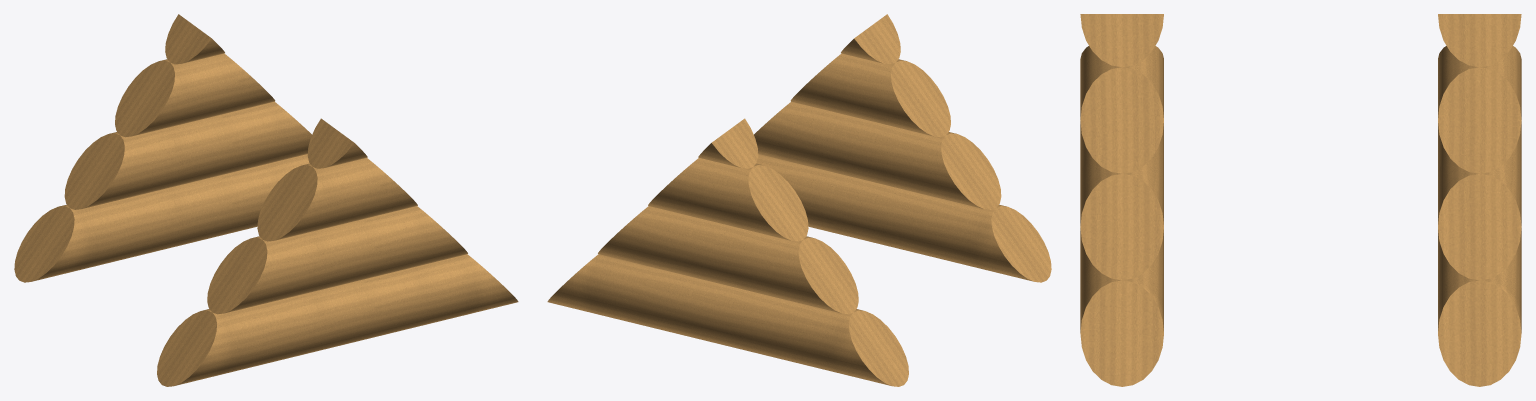
The model's file is 6-individual-log-gable-courses.fbx.
3 renders of one model, left to right at view 1: azimuth 30°, elevation 25°; view 2: azimuth 150°, elevation 25°; view 3: azimuth 270°, elevation 25°, orthographic. The views are drawn at different scales.
Parts seen in each view (by area): view 1: individual-log-gable-courses; view 2: individual-log-gable-courses; view 3: individual-log-gable-courses.
Part boxes in pixels (x1,y1,x2,y2): individual-log-gable-courses: (14,14,518,386); individual-log-gable-courses: (547,14,1051,386); individual-log-gable-courses: (1080,14,1521,386).
Bounding box in the file's own units: 6696 × 3850 × 5800.
Materials: 1 (1 with a texture image).
